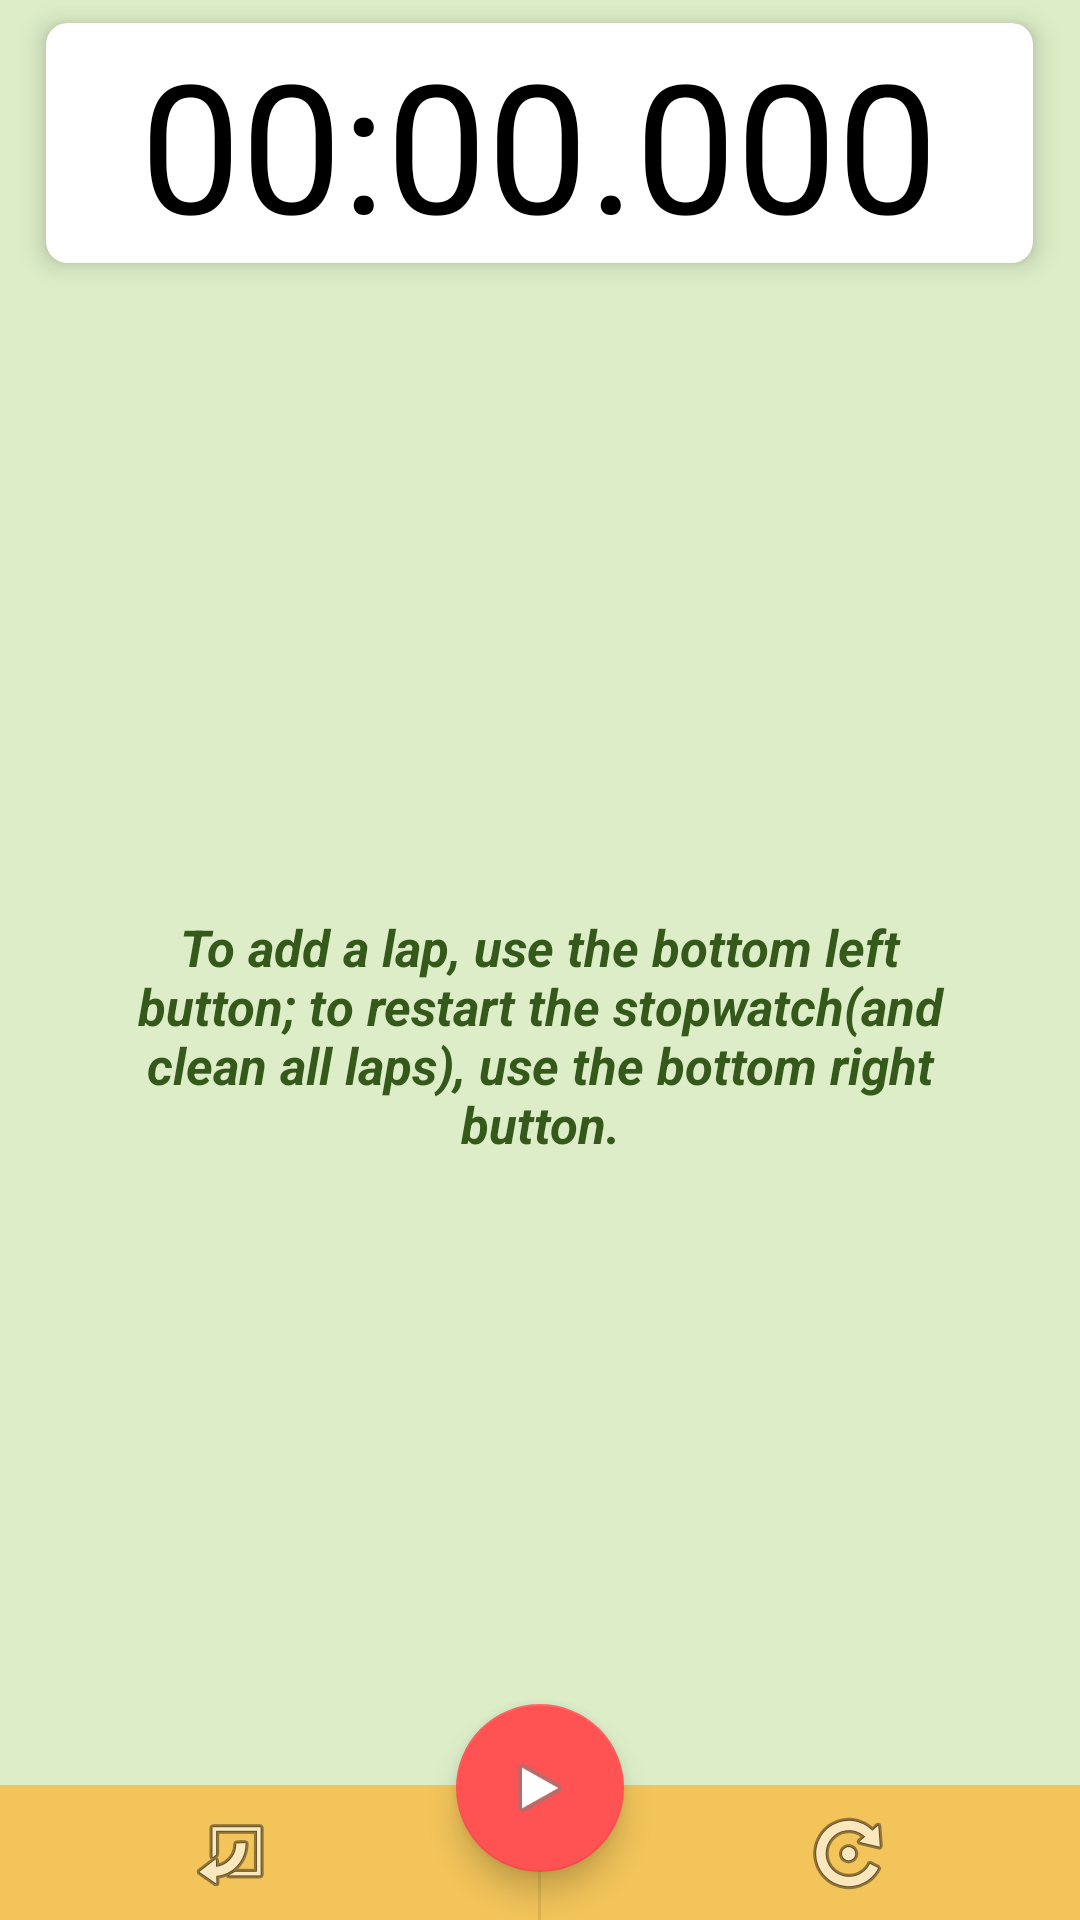

Point at icon controls on the screen. Image size 1080*1920, points as point (x, y).
play: point (540, 1788)
